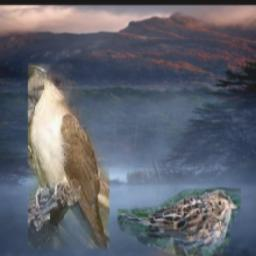Cuckoo: (28, 65, 109, 250)
Sparrow: (118, 187, 241, 256)
